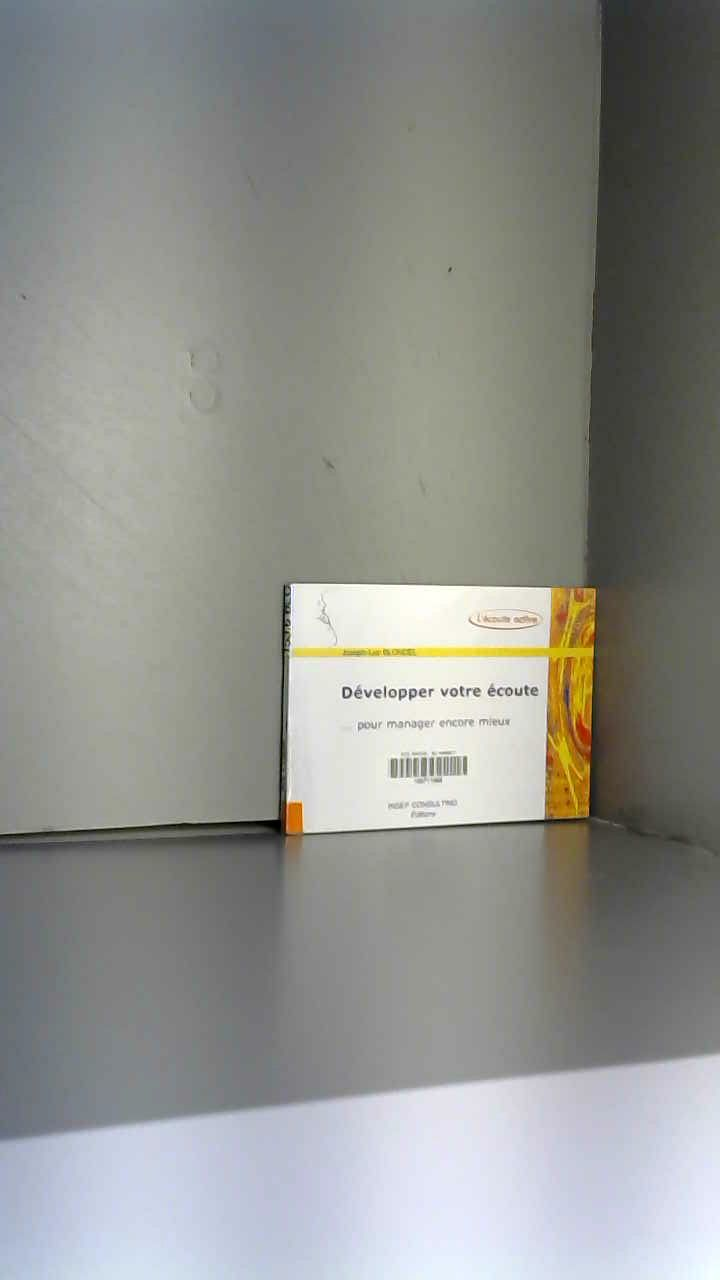book: (267, 564, 613, 854)
